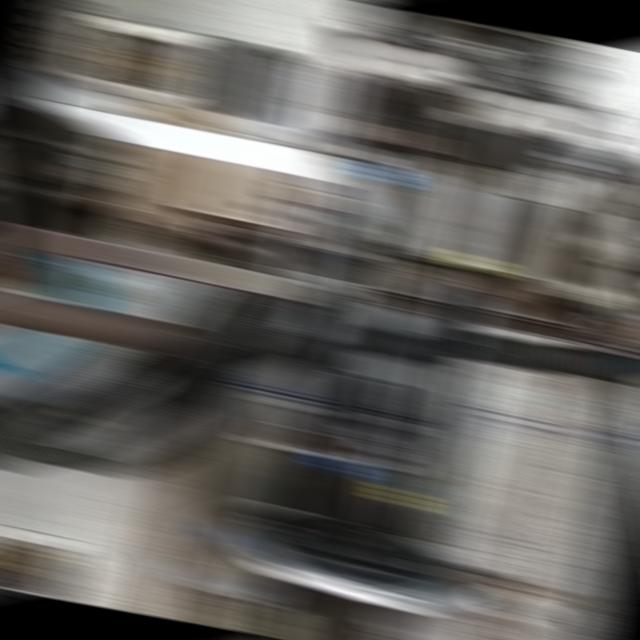blue: (362, 161, 405, 185), (319, 455, 361, 476)
yellow: (380, 485, 421, 509), (456, 251, 495, 274)
